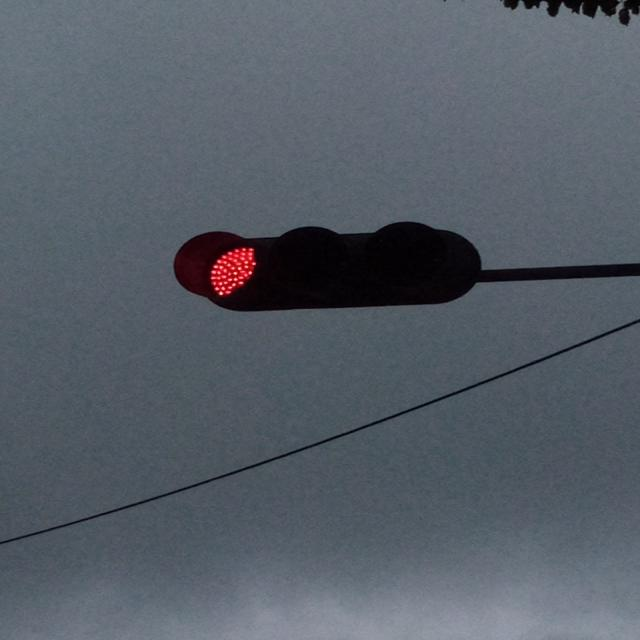red light: (174, 221, 481, 312)
